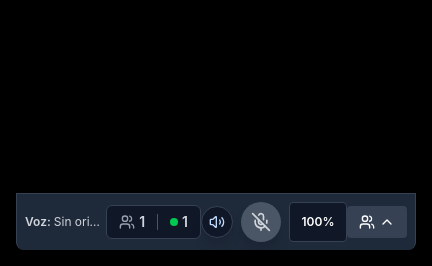
Live Audio microphone state UI › shows moderation failures visibly in Control
This screenshot has width=432, height=266.
Click the button named "Regular volumen de salida de tu micro": (318, 222) [289,202,347,242]
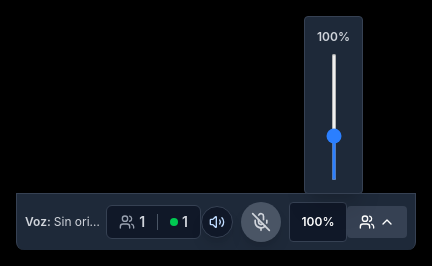
Now the slider named "Volumen de salida de tu micro" is shown, box [332,53,336,181]
